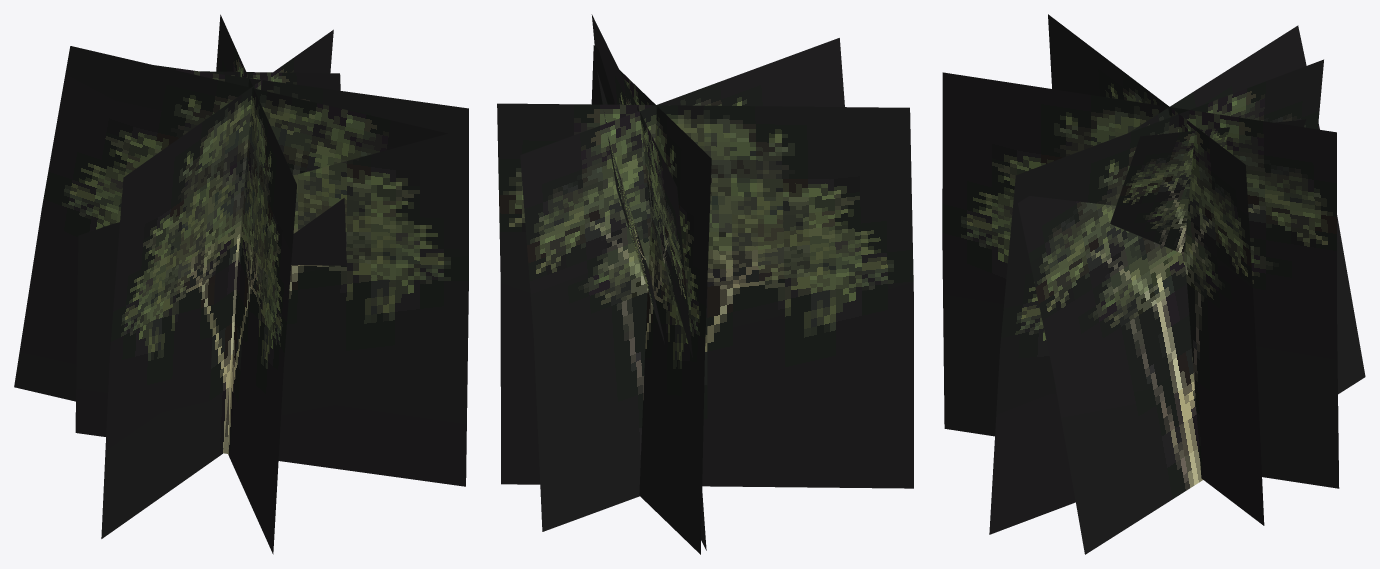
Rendered from STA20_bush13.FBX.
3 views of the same model, side by side, from view 1: azimuth 30°, elevation 25°; view 2: azimuth 150°, elevation 25°; view 3: azimuth 270°, elevation 25° (orthographic).
Visible parts, largest first — view 1: STA20_bush13; view 2: STA20_bush13; view 3: STA20_bush13.
Boxes of the visible parts, left/top/right/bottom form: STA20_bush13: left=14, top=14, right=468, bottom=554; STA20_bush13: left=497, top=14, right=913, bottom=554; STA20_bush13: left=942, top=14, right=1365, bottom=554.
Bounding box in the file's own units: 2.36 × 2.71 × 2.5.
